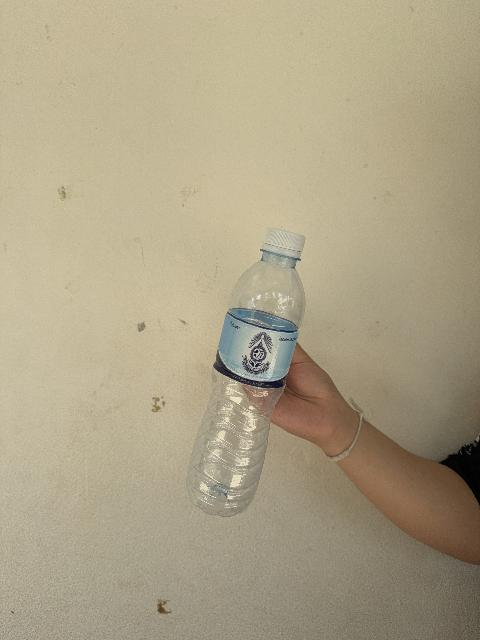bottle: (187, 228, 305, 516)
